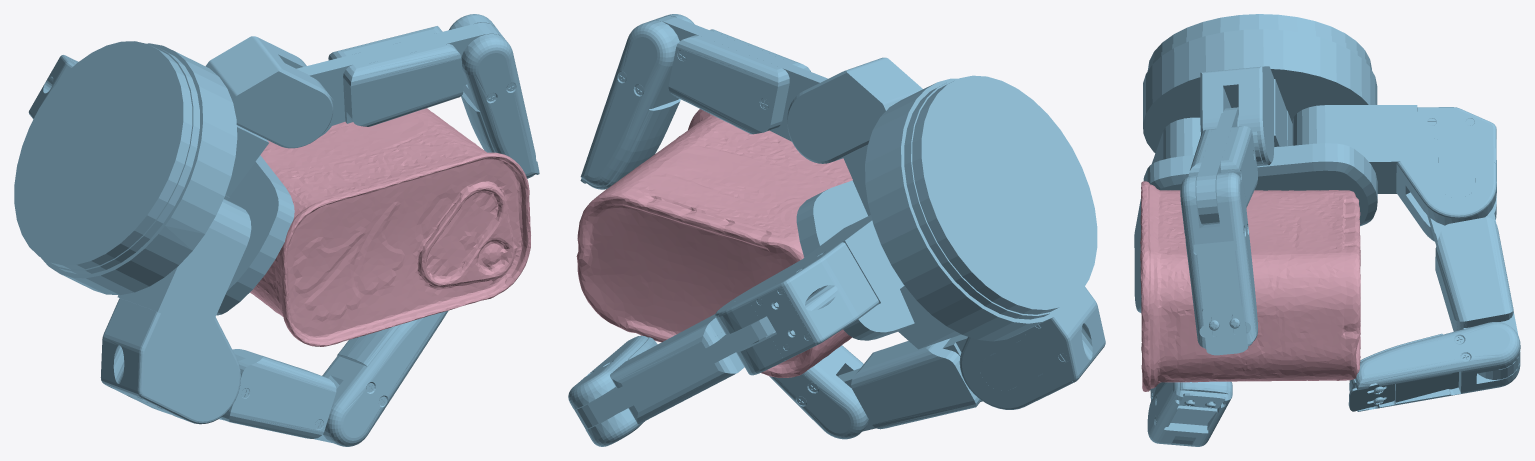
3 renders of one model, left to right at view 1: azimuth 30°, elevation 25°; view 2: azimuth 150°, elevation 25°; view 3: azimuth 270°, elevation 25°, orthographic. The views are drawn at different scales.
Visible parts, largest first — view 1: world; view 2: world; view 3: world.
Part boxes in pixels (x1=…): world: x1=14, y1=14, x2=539, y2=446; world: x1=568, y1=14, x2=1105, y2=446; world: x1=1134, y1=14, x2=1520, y2=446.
Bounding box in the file's own units: 0.1953 × 0.1545 × 0.1464.
